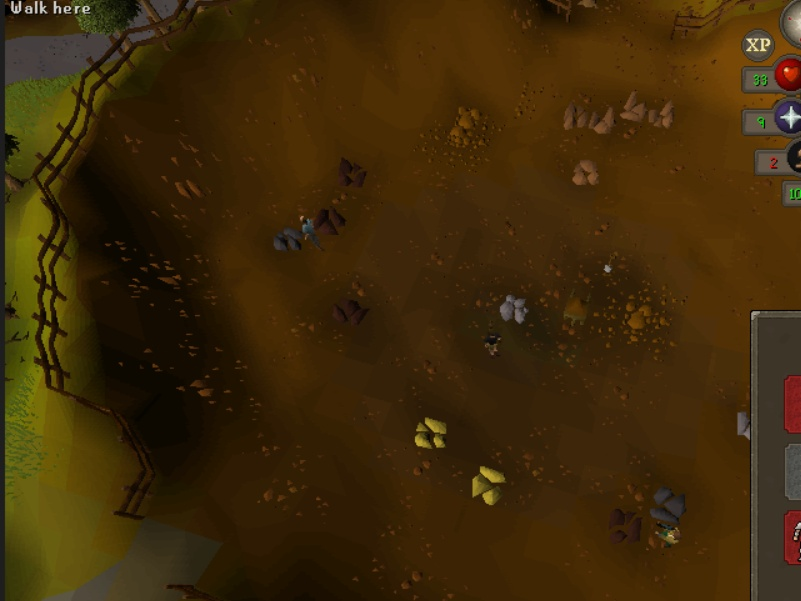copper: (567, 153, 608, 194), (549, 101, 591, 134), (588, 99, 621, 135), (618, 89, 651, 125), (647, 94, 680, 130)
gold: (468, 459, 515, 512), (407, 411, 459, 455)
iron: (606, 499, 650, 547), (327, 293, 378, 331), (333, 156, 372, 192), (309, 202, 348, 238)
